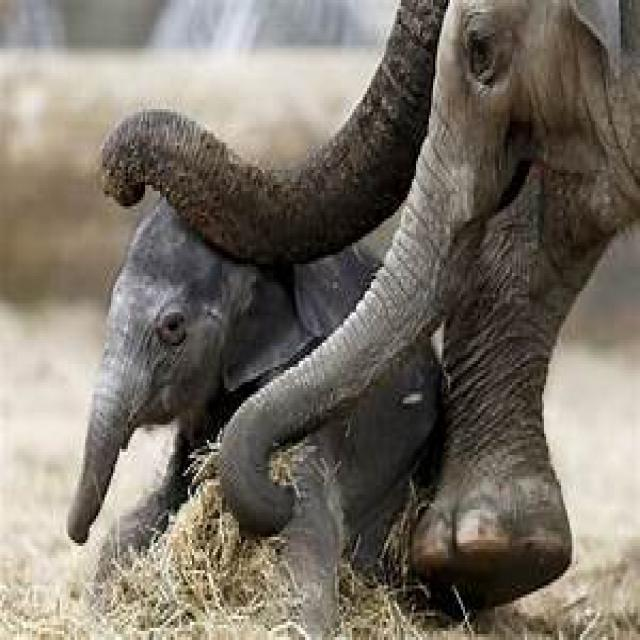elephant: (218, 0, 640, 540), (64, 194, 382, 546), (98, 0, 452, 273), (412, 170, 572, 616)
